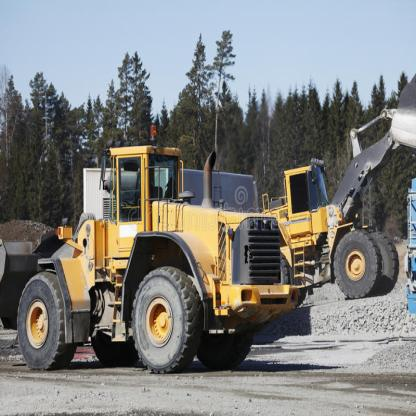bull_dozer/loader/grader: (3, 128, 300, 376)
